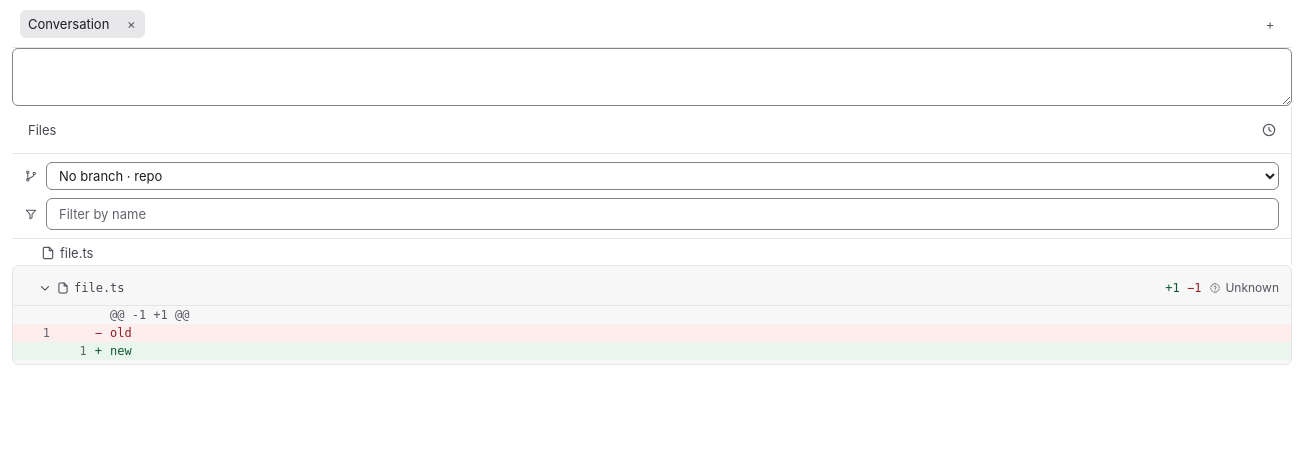
Test: opens a double clicked file in the focused empty pane even when the file is already open
Double-click the element with class "tree-row": (67,253) [40,245,93,261]
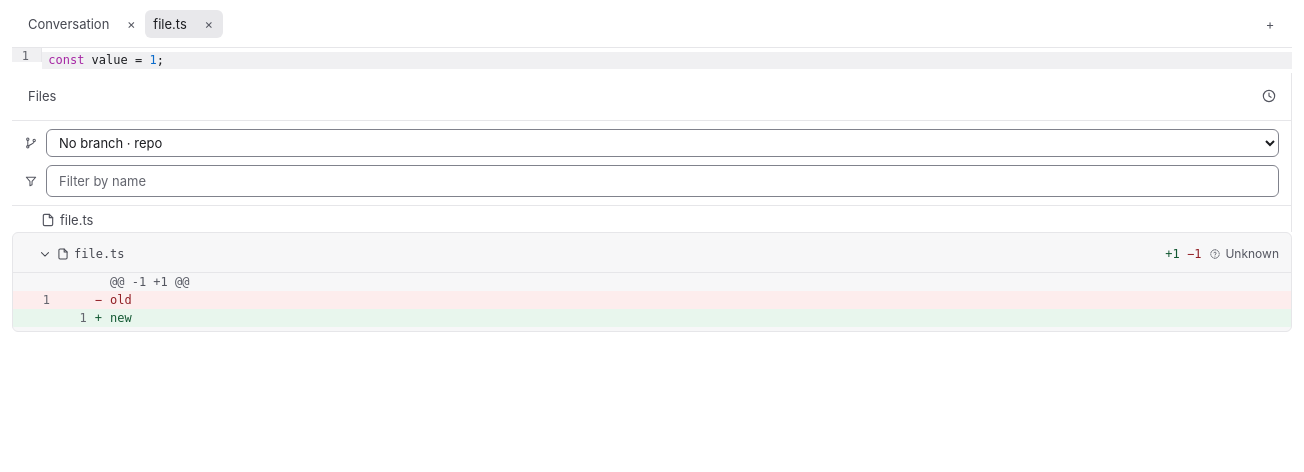
Press d in the field named "Code", box [42,48,1292,73]
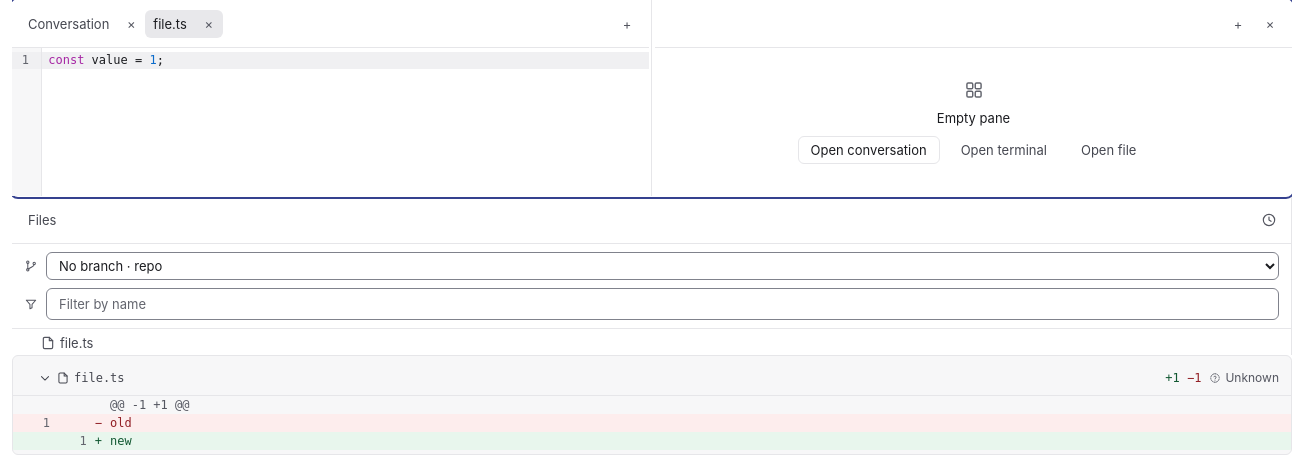
Double-click the element with class "tree-row": (67,343) [40,335,93,351]
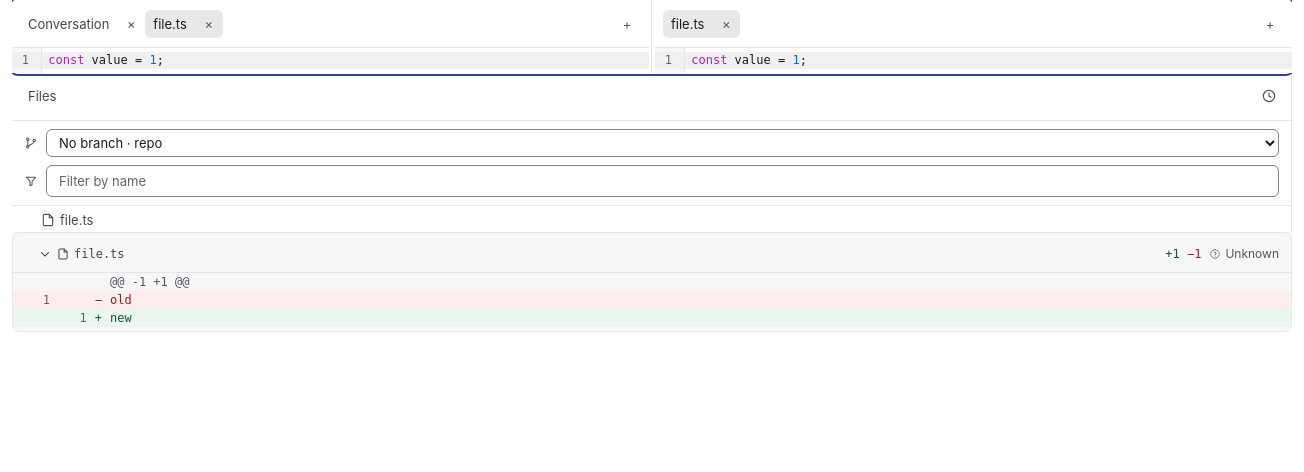
Expected: the tabs read "Conversation", "file.ts", in this order, [20,10,117,38]; [145,10,195,38]
Now the tabs read "file.ts", in this order, box [663,10,712,38]
